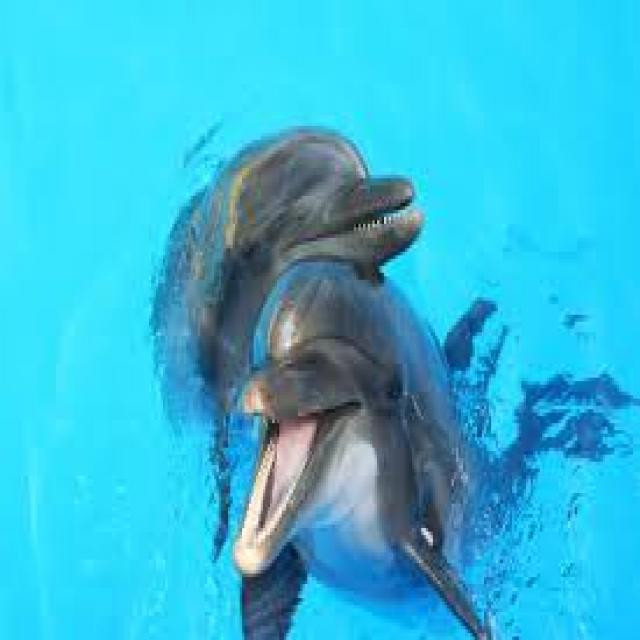dolphin: (234, 262, 493, 640), (102, 90, 436, 270)
